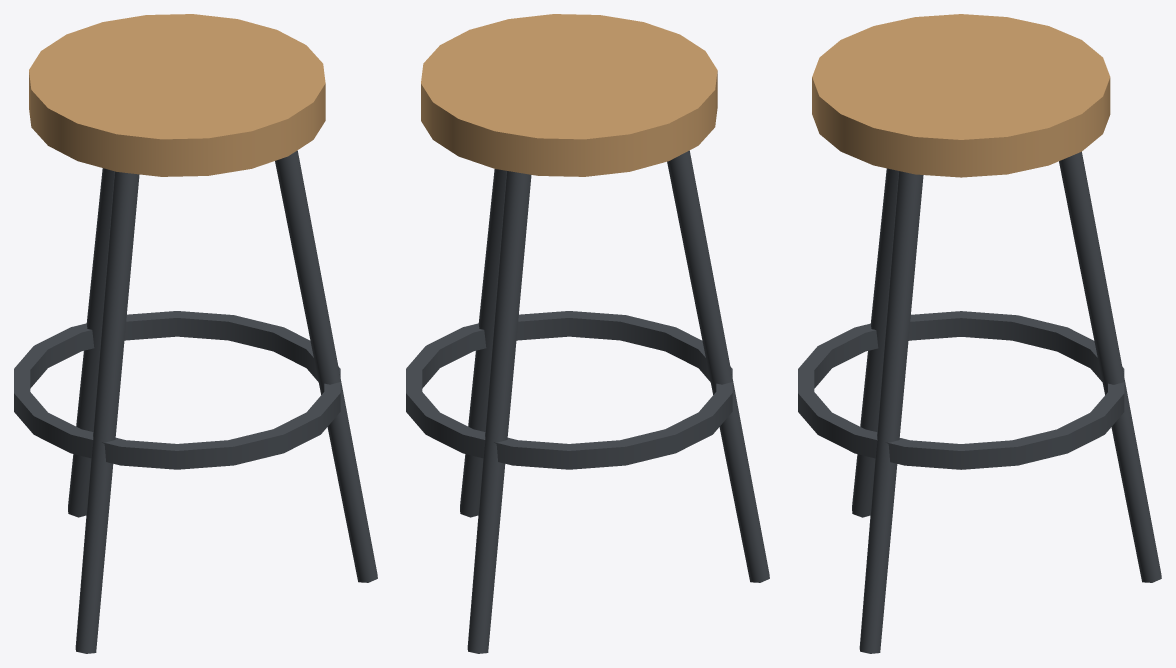
The model's file is banqueta.glb.
3 renders of one model, left to right at view 1: azimuth 30°, elevation 25°; view 2: azimuth 150°, elevation 25°; view 3: azimuth 270°, elevation 25°, orthographic.
Parts seen in each view (by area): view 1: Assento, Pernas, Aro; view 2: Assento, Pernas, Aro; view 3: Assento, Pernas, Aro.
Boxes of the visible parts, x1,y1,x2,y2 form: Assento: (29,14,325,176); Pernas: (68,150,377,653); Aro: (14,311,340,469); Assento: (421,14,717,176); Pernas: (460,150,769,653); Aro: (406,311,732,469); Assento: (812,14,1110,177); Pernas: (852,151,1161,653); Aro: (798,311,1124,469).
Size of the model in its own units: 0.4259 by 0.6721 by 0.4392.
